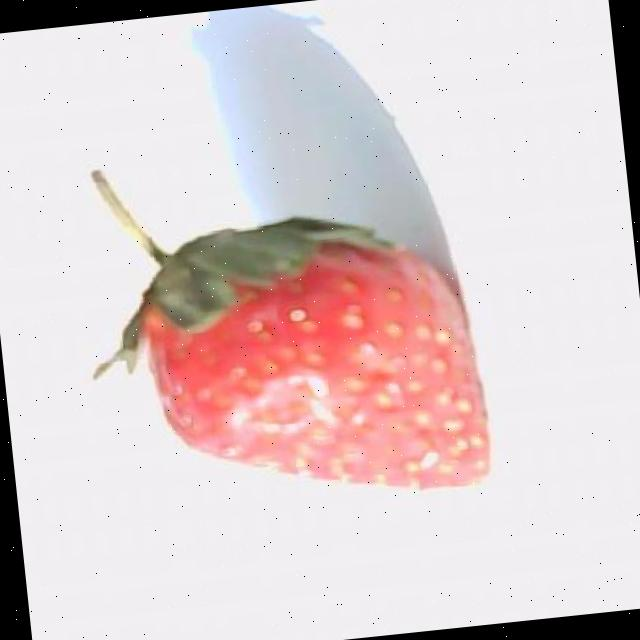strawberry: (91, 173, 488, 487)
